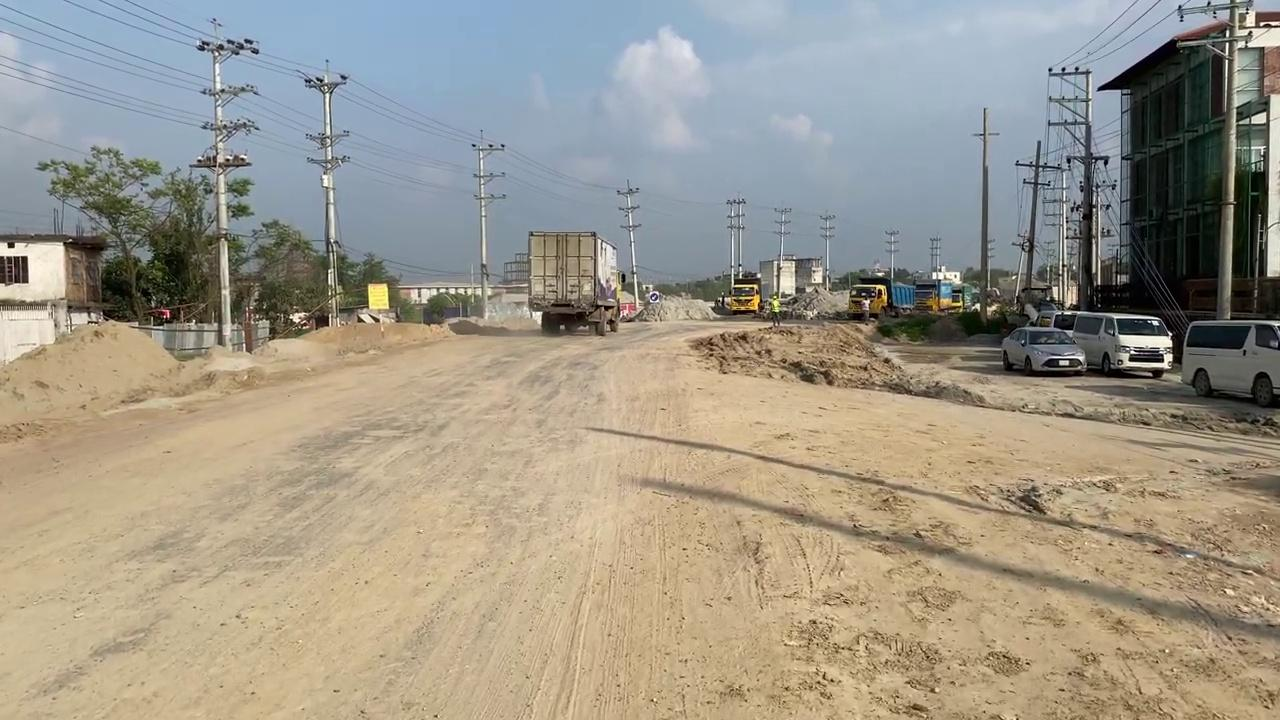Muddy road: (682, 313, 937, 399)
Obstacle: (526, 229, 621, 335)
Pole: (302, 59, 349, 326), (971, 106, 999, 325)
Tree: (1008, 140, 1056, 325), (846, 269, 966, 322), (713, 196, 763, 314), (714, 272, 763, 314), (1014, 283, 1059, 323), (914, 278, 964, 313), (846, 283, 888, 321), (937, 281, 964, 312)
